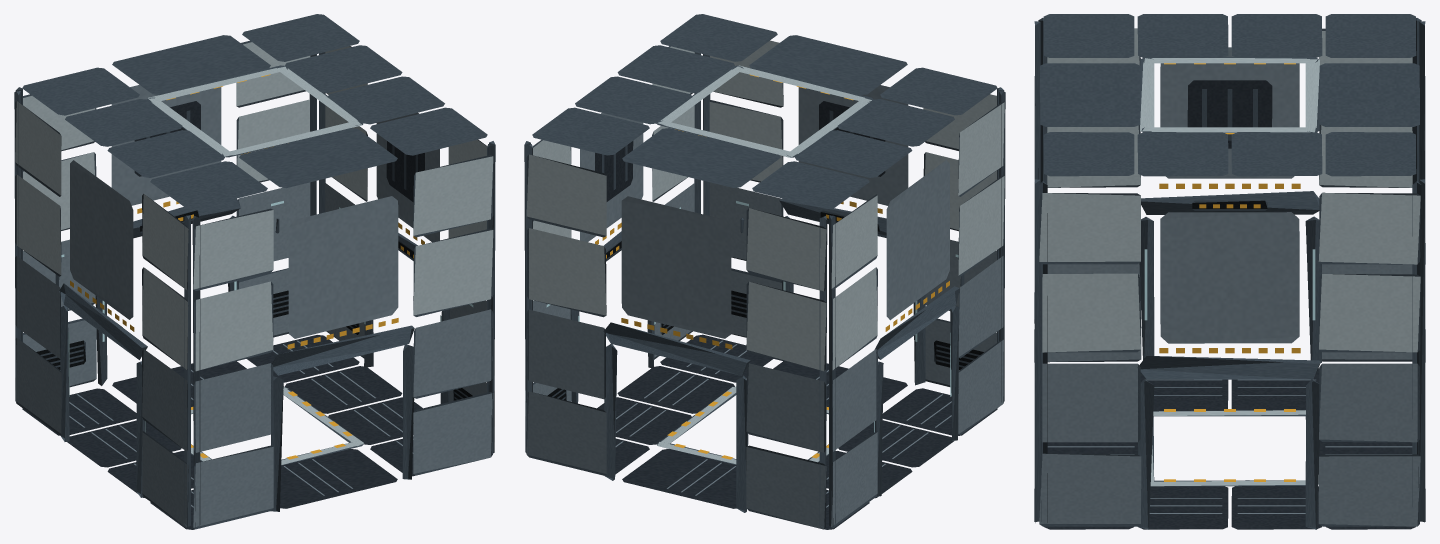
Rendered from cube-room.obj.
3 renders of one model, left to right at view 1: azimuth 30°, elevation 25°; view 2: azimuth 150°, elevation 25°; view 3: azimuth 270°, elevation 25°, orthographic. The views are drawn at different scales.
Parts seen in each view (by area): view 1: Upper_central_service_panel.002, Upper_central_service_panel.003, Wall_2_cassette_-4.65_8.5, Wall_2_cassette_4.65_5.2, Wall_2_cassette_4.65_8.5, Wall_2_cassette_-4.65_5.2, Wall_2_cassette_-4.65_2.0, Wall_2_cassette_4.65_2.0, Ceiling_tile.009, Ceiling_tile.008, Wall_2_cassette_-4.65_11.6, Wall_2_cassette_4.65_11.6 (+57 smaller); view 2: Upper_central_service_panel, Upper_central_service_panel.003, Wall_0_cassette_-4.65_8.5, Wall_0_cassette_-4.65_5.2, Wall_0_cassette_4.65_8.5, Wall_0_cassette_4.65_5.2, Wall_0_cassette_4.65_2.0, Ceiling_tile.008, Wall_0_cassette_-4.65_2.0, Ceiling_tile.009, Wall_0_cassette_4.65_11.6, Wall_0_cassette_-4.65_11.6 (+57 smaller); view 3: Upper_central_service_panel.001, Wall_1_cassette_4.65_5.2, Wall_1_cassette_-4.65_8.5, Wall_1_cassette_-4.65_5.2, Wall_1_cassette_4.65_8.5, Wall_1_cassette_4.65_2.0, Wall_1_cassette_-4.65_2.0, Wall_1_cassette_-4.65_11.6, Wall_1_cassette_4.65_11.6, Ceiling_tile.008, Ceiling_tile.009, Upper_central_service_panel.003 (+44 smaller).
Boxes of the visible parts, <box> form: Upper_central_service_panel.002: <box>288,196,398,338</box>; Upper_central_service_panel.003: <box>70,160,133,319</box>; Wall_2_cassette_-4.65_8.5: <box>413,228,493,316</box>; Wall_2_cassette_4.65_5.2: <box>194,363,273,452</box>; Wall_2_cassette_4.65_8.5: <box>194,281,273,371</box>; Wall_2_cassette_-4.65_5.2: <box>413,309,492,398</box>; Wall_2_cassette_-4.65_2.0: <box>413,392,493,475</box>; Wall_2_cassette_4.65_2.0: <box>193,445,273,528</box>; Ceiling_tile.009: <box>239,128,397,188</box>; Ceiling_tile.008: <box>112,35,270,94</box>; Wall_2_cassette_-4.65_11.6: <box>413,155,493,237</box>; Wall_2_cassette_4.65_11.6: <box>193,208,273,290</box>; Upper_central_service_panel: <box>621,196,731,338</box>; Upper_central_service_panel.003: <box>886,160,949,320</box>; Wall_0_cassette_-4.65_8.5: <box>746,281,826,371</box>; Wall_0_cassette_-4.65_5.2: <box>746,363,825,452</box>; Wall_0_cassette_4.65_8.5: <box>527,228,606,317</box>; Wall_0_cassette_4.65_5.2: <box>527,309,605,399</box>; Wall_0_cassette_4.65_2.0: <box>526,391,606,475</box>; Ceiling_tile.008: <box>622,128,780,187</box>; Wall_0_cassette_-4.65_2.0: <box>746,445,826,529</box>; Ceiling_tile.009: <box>749,35,907,94</box>; Wall_0_cassette_4.65_11.6: <box>526,154,606,237</box>; Wall_0_cassette_-4.65_11.6: <box>746,208,826,291</box>; Upper_central_service_panel.001: <box>1160,212,1299,343</box>; Wall_1_cassette_4.65_5.2: <box>1040,363,1140,442</box>; Wall_1_cassette_-4.65_8.5: <box>1319,274,1420,352</box>; Wall_1_cassette_-4.65_5.2: <box>1319,363,1419,442</box>; Wall_1_cassette_4.65_8.5: <box>1040,273,1140,352</box>; Wall_1_cassette_4.65_2.0: <box>1039,453,1141,526</box>; Wall_1_cassette_-4.65_2.0: <box>1318,454,1420,526</box>; Wall_1_cassette_-4.65_11.6: <box>1318,192,1420,264</box>; Wall_1_cassette_4.65_11.6: <box>1039,193,1140,264</box>; Ceiling_tile.008: <box>1319,63,1419,126</box>; Ceiling_tile.009: <box>1040,63,1140,126</box>; Upper_central_service_panel.003: <box>1160,47,1299,178</box>.
Size of the model in its own units: 13.03 by 12.98 by 13.03.
1 material, 1 textured.
